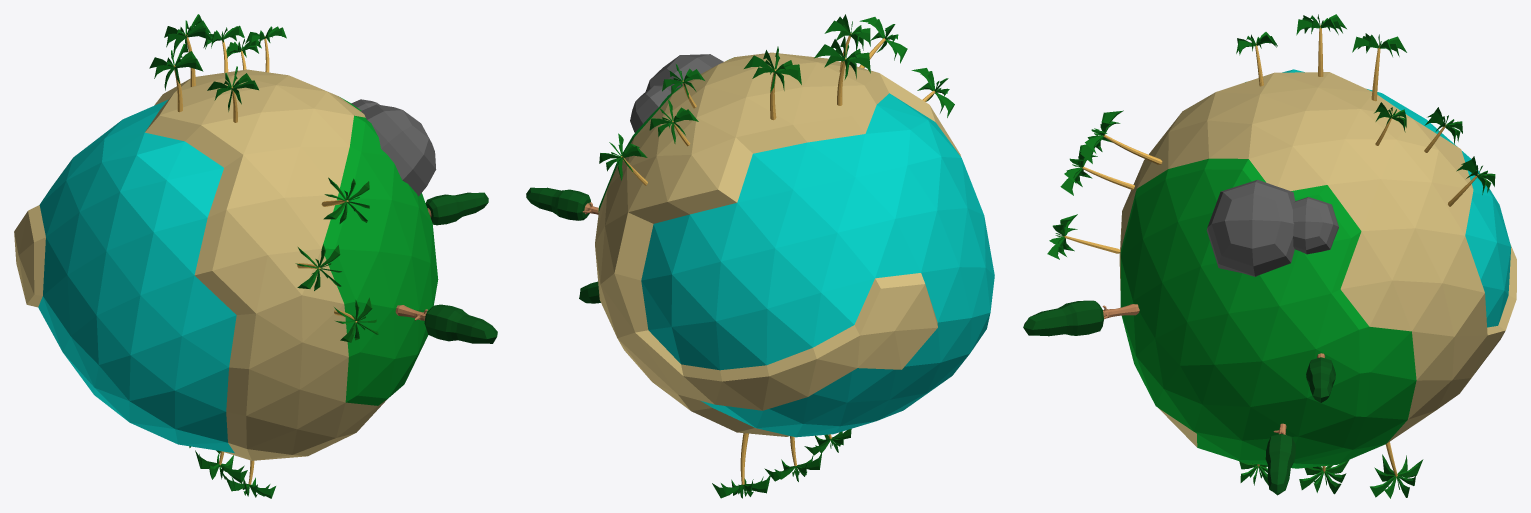
Rendered from Star1.fbx.
3 renders of one model, left to right at view 1: azimuth 30°, elevation 25°; view 2: azimuth 150°, elevation 25°; view 3: azimuth 270°, elevation 25°, orthographic. The views are drawn at different scales.
Visible parts, largest first — view 1: ICO球, Cube.003, Cube.001, Cube.004, Cube.002; view 2: ICO球, Cube.003, Cube.001, Cube.002; view 3: ICO球, Cube.003, Cube.001, Cube.004, Cube.005, Cube.002.
Part boxes in pixels (x1,y1,x2,y2): ICO球: (14,69,438,460); Cube.003: (149,14,378,498); Cube.001: (351,99,436,196); Cube.004: (395,304,497,343); Cube.002: (425,192,488,225); ICO球: (595,52,994,437); Cube.003: (599,14,954,498); Cube.001: (630,54,723,132); Cube.002: (526,187,598,220); ICO球: (1119,69,1516,468); Cube.003: (1047,14,1495,498); Cube.001: (1206,179,1338,276); Cube.004: (1023,300,1139,336); Cube.005: (1265,423,1295,495); Cube.002: (1306,353,1335,402).
Bounding box in the file's own units: 220 × 216 × 213.
